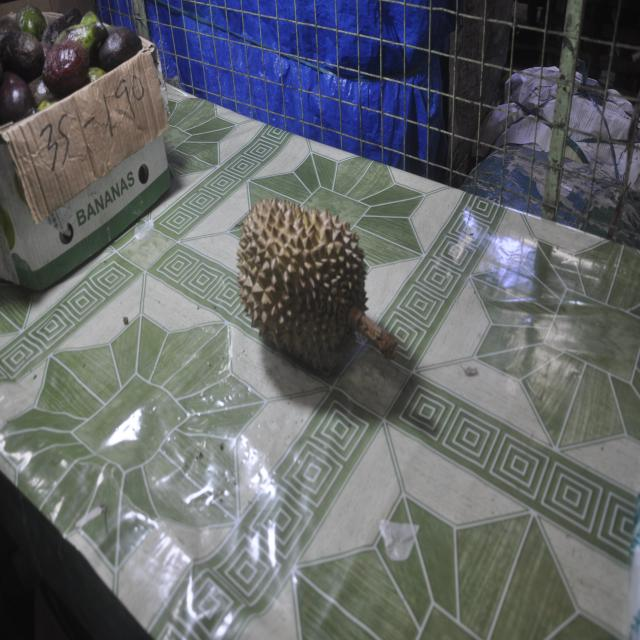mature: (238, 199, 398, 372)
